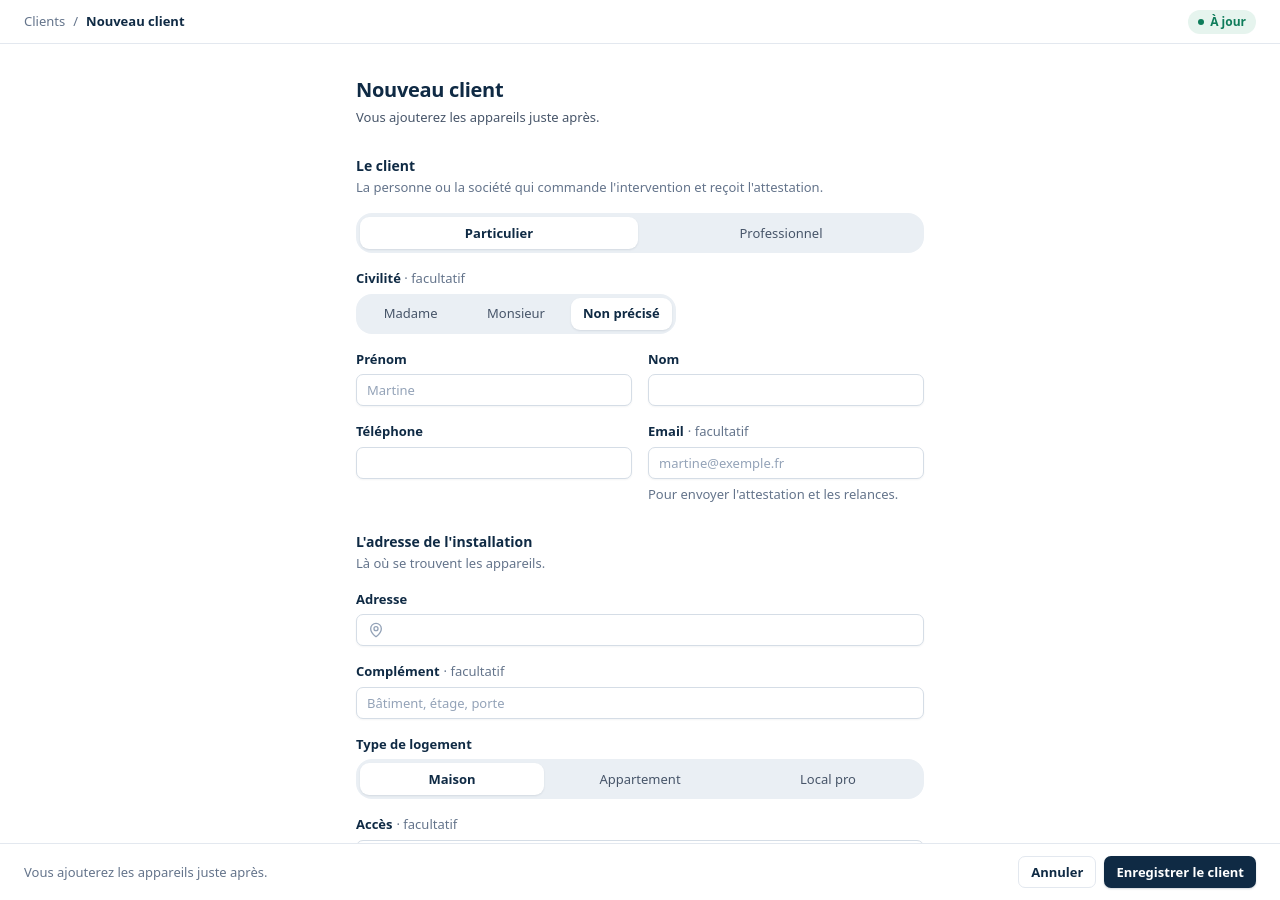
Test case: NewCustomerScreen › shows what is missing and saves nothing when the form is empty
The image size is (1280, 900).
Step 1. Click the button "Enregistrer le client" → [1180, 872], box left=1104, top=856, right=1256, bottom=888
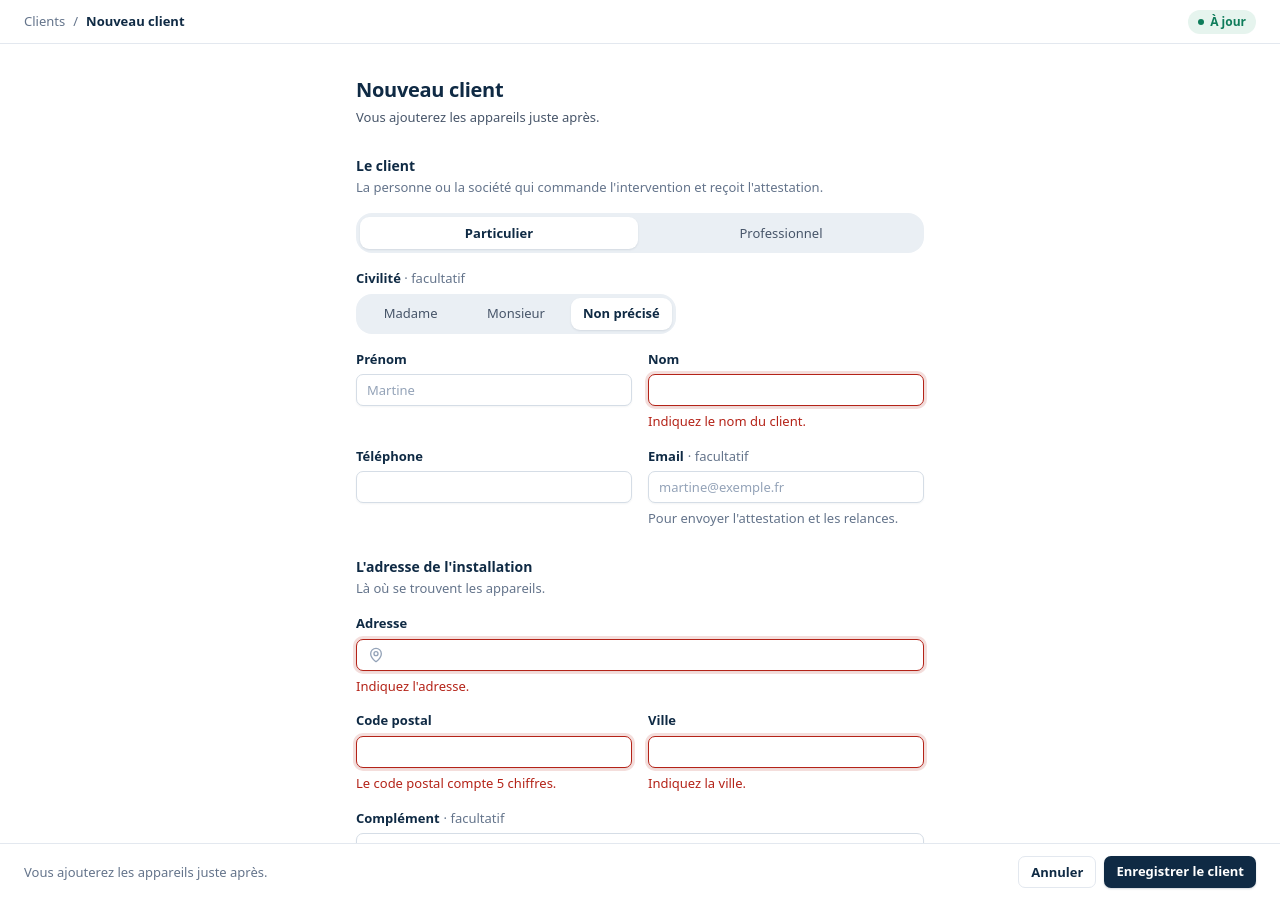
Expected: the text "Indiquez le nom du client." is shown, left=648, top=412, right=806, bottom=430
Expected: the text "Indiquez l'adresse." is shown, left=356, top=677, right=469, bottom=695
Expected: the text "Le code postal compte 5 chiffres." is shown, left=356, top=774, right=556, bottom=792
